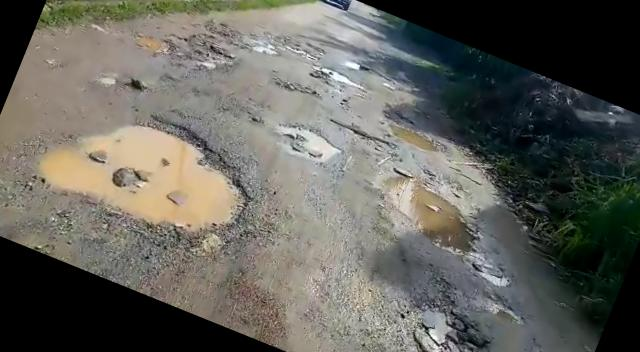pothole: (44, 85, 270, 264), (362, 166, 491, 262), (131, 14, 241, 87), (270, 116, 342, 169), (323, 115, 399, 156), (379, 116, 444, 156), (471, 286, 527, 327), (268, 72, 322, 102), (467, 262, 512, 292)
